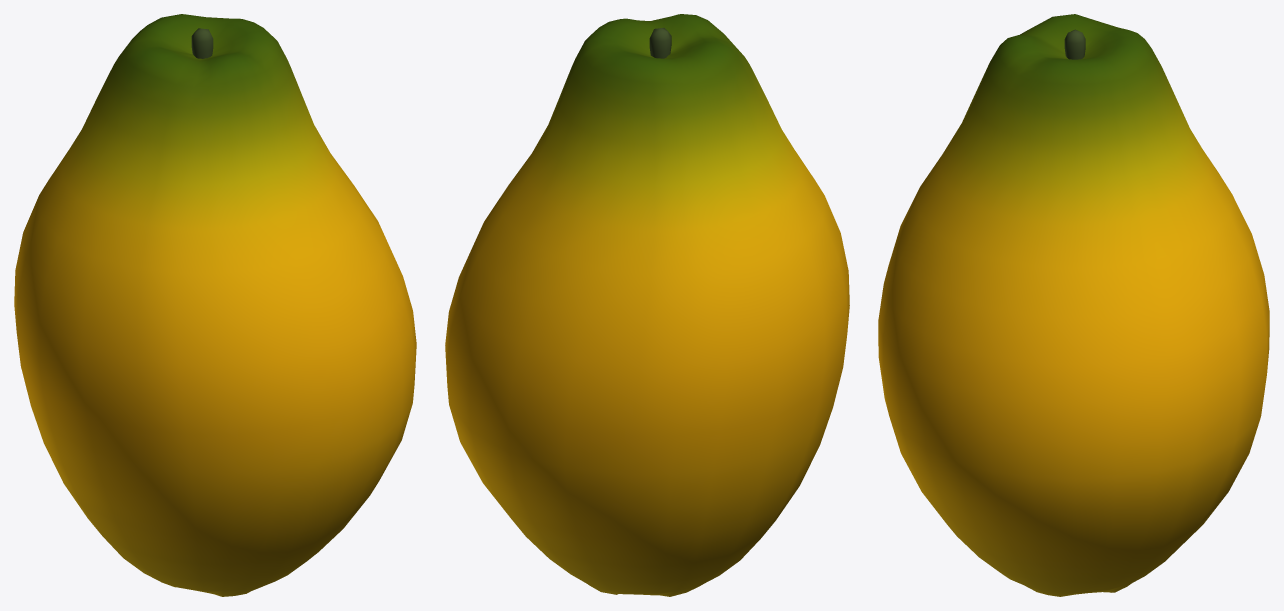
The model's file is Papaya.fbx.
3 renders of one model, left to right at view 1: azimuth 30°, elevation 25°; view 2: azimuth 150°, elevation 25°; view 3: azimuth 270°, elevation 25°, orthographic. The views are drawn at different scales.
Parts seen in each view (by area): view 1: Papaya; view 2: Papaya; view 3: Papaya.
Part boxes in pixels (box(x1,y1,x2,y2)): Papaya: box(14, 14, 416, 596); Papaya: box(445, 14, 849, 596); Papaya: box(878, 14, 1269, 596).
Size of the model in its own units: 0.85 by 1.28 by 0.8355.
1 material, 1 textured.
